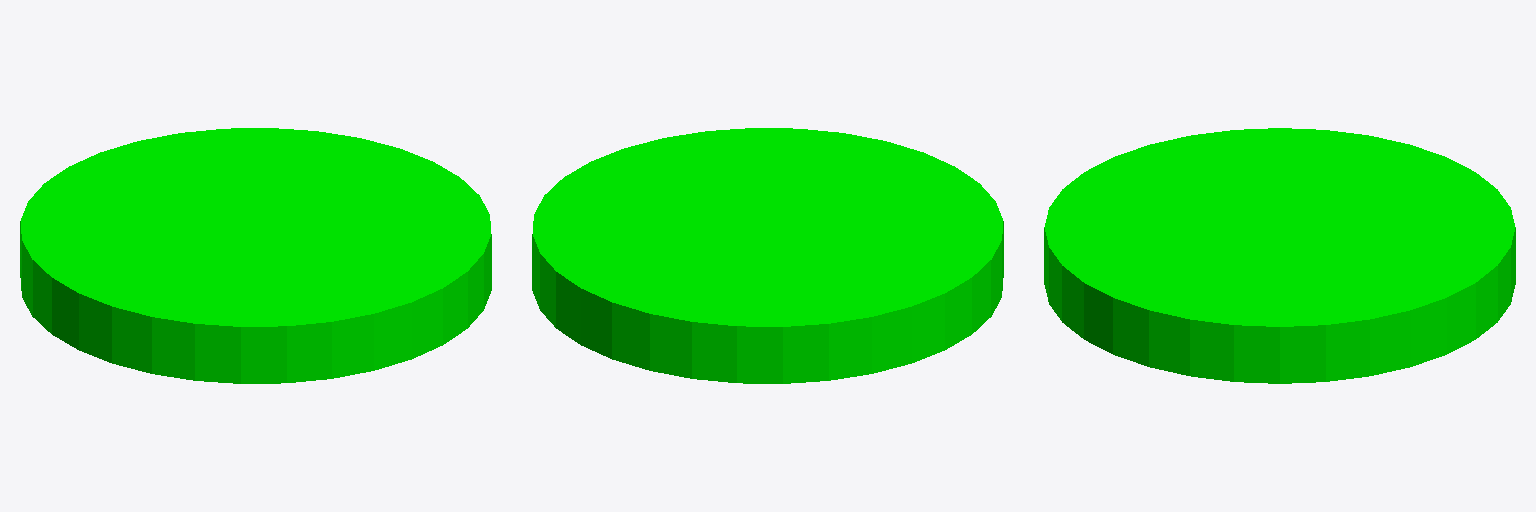
robot.urdf — cylinder:
<?xml version="0.0" ?>
<robot name="cylinder">
    <material name="green">
        <color rgba="0 1 0 0.5"/>
    </material>

    <link name="baseLink">
        <inertial>
            <origin rpy="0 0 0" xyz="0 0 0"/>
            <mass value="0.0"/>
            <inertia ixx="1" ixy="0" ixz="0" iyy="1" iyz="0" izz="1"/>
        </inertial>
        <visual>
            <origin rpy="0 0 0" xyz="0 0 0"/>
            <geometry>
                <cylinder length="0.004" radius="0.015"/>
            </geometry>
            <material name="green"/>
        </visual>
    </link>
</robot>

--- Render facts (derived) ---
3 views of the same robot in one strip: view 1: azimuth 30°, elevation 25°; view 2: azimuth 150°, elevation 25°; view 3: azimuth 270°, elevation 25° (orthographic).
Robot: cylinder — 1 links, 0 joints (none); root link baseLink; default pose: all joints at 0.
Visible links, largest first — view 1: baseLink; view 2: baseLink; view 3: baseLink.
Link boxes in pixels (bbox=[...]): baseLink: bbox=[20, 128, 491, 383]; baseLink: bbox=[532, 128, 1003, 383]; baseLink: bbox=[1044, 128, 1515, 383].
Bounding box of the posed robot: 0.03 × 0.03 × 0.004 m (x, y, z).
Geometry: primitives only (box / cylinder / sphere), no mesh files.